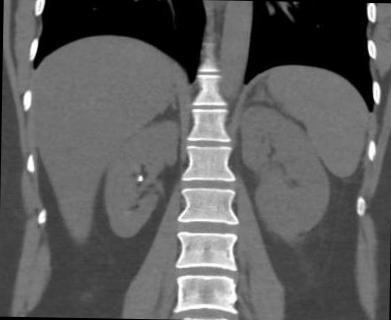Tas_Var: (134, 174, 146, 186)
